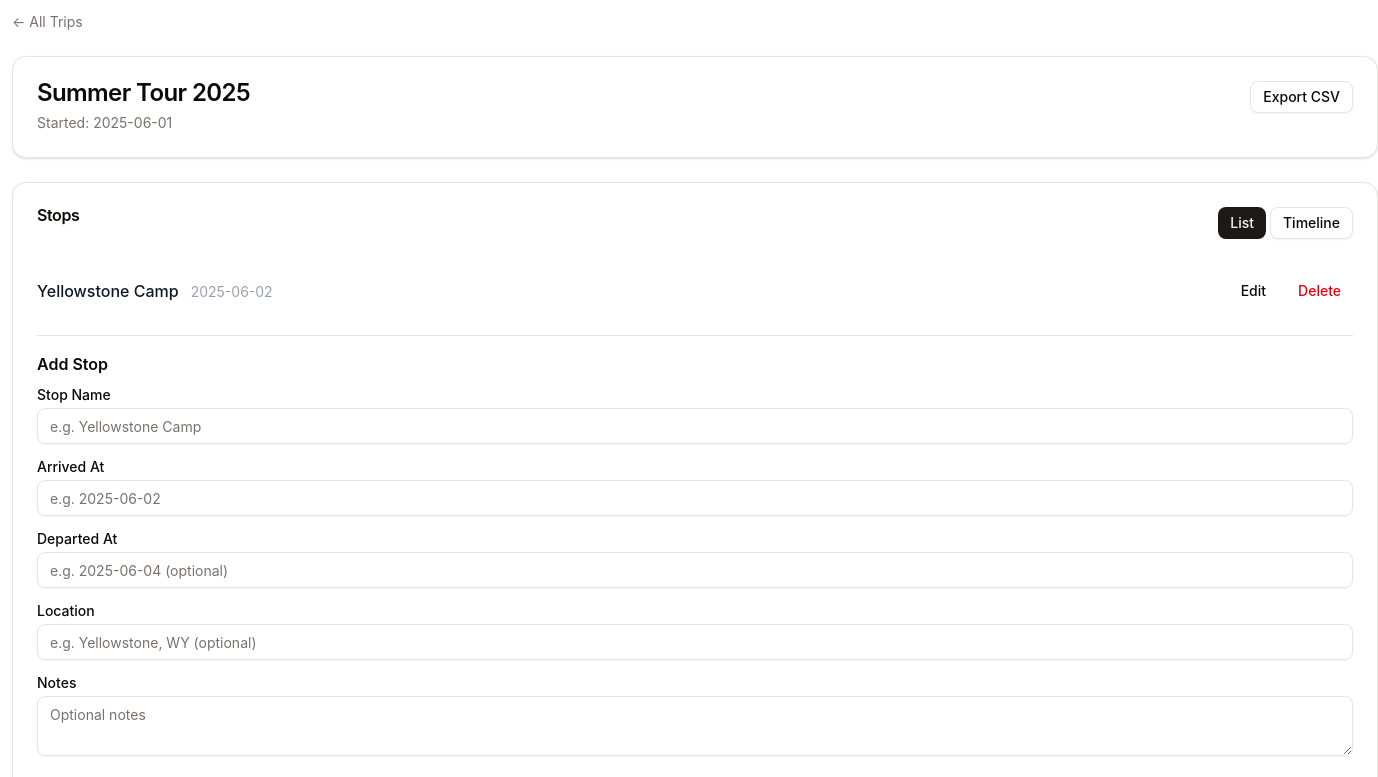
Test: TripDetailPage › switches to the edit form when the edit button is clicked
The image size is (1378, 777).
Click the button with aria-label "edit yellowstone camp" at [1253, 291], box [1229,275,1278,307]
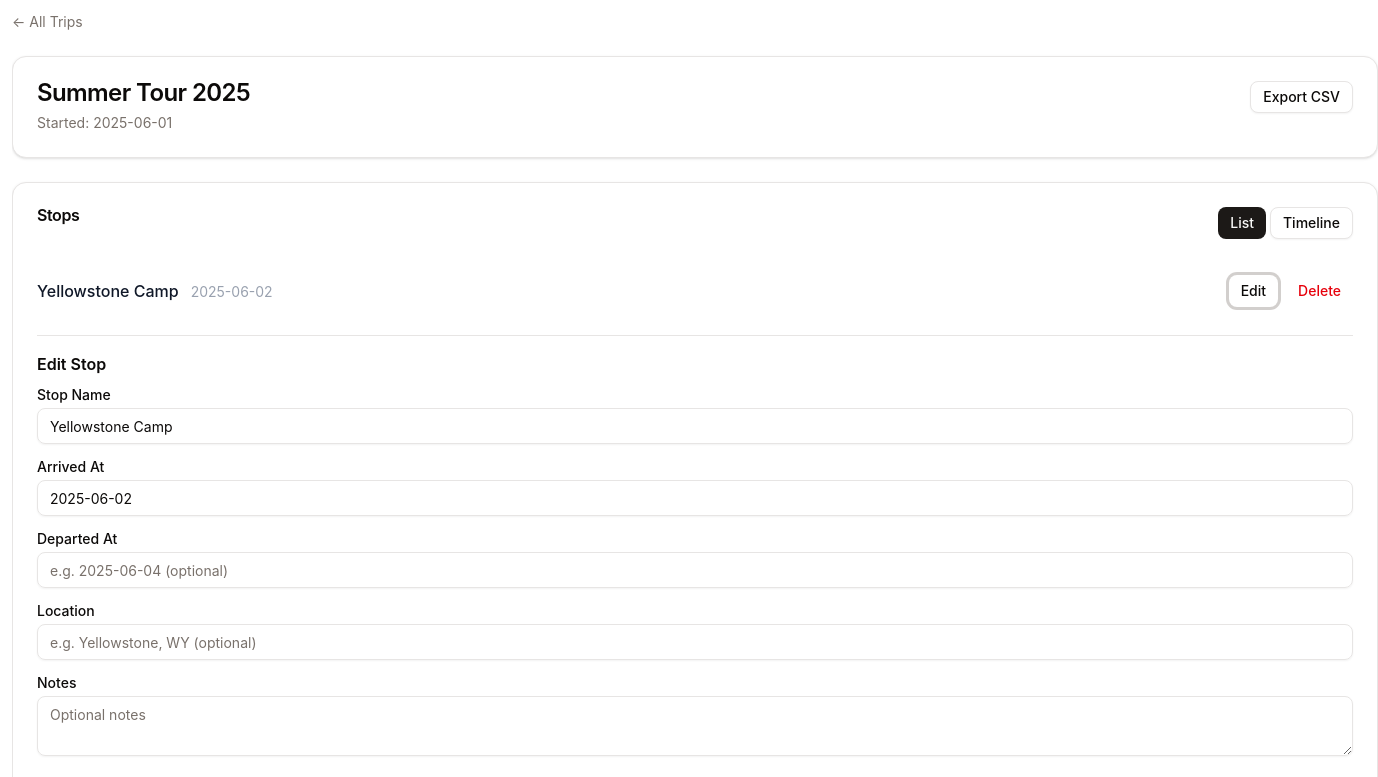
expect the field labelled "Stop Name" holds "Yellowstone Camp": met, box [37,408,1353,444]
